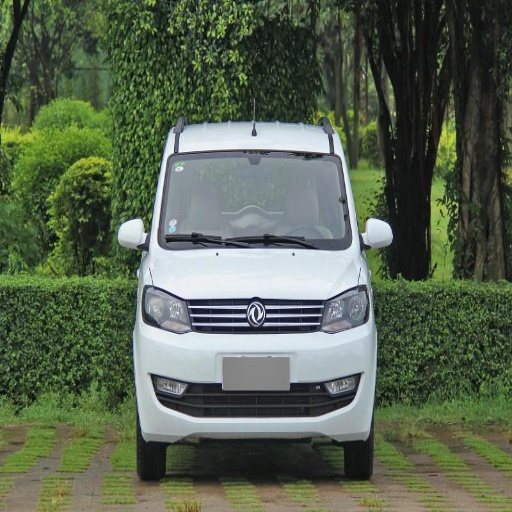front_bumper: (135, 298, 376, 441)
front_right_light: (141, 285, 191, 332)
hood: (151, 248, 358, 300)
